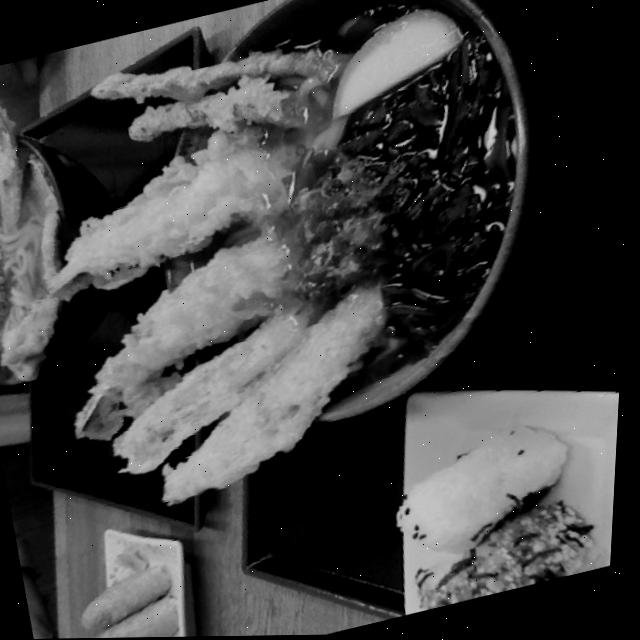面条主食: (23, 0, 577, 410)
